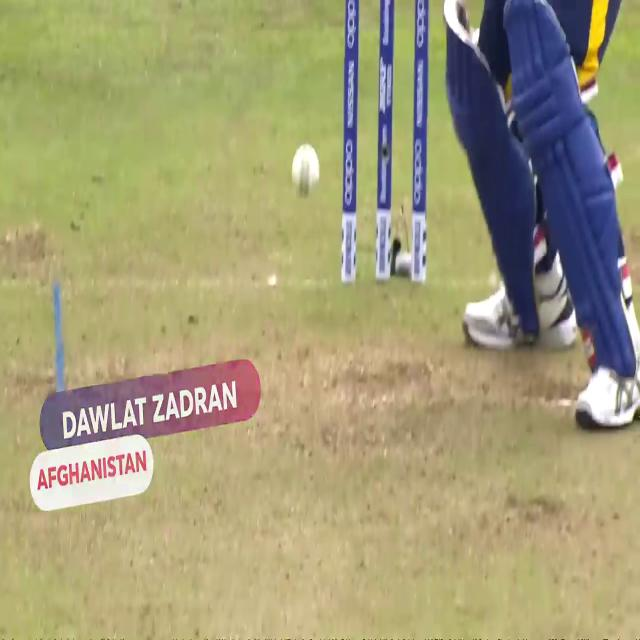ball: (290, 138, 322, 204)
